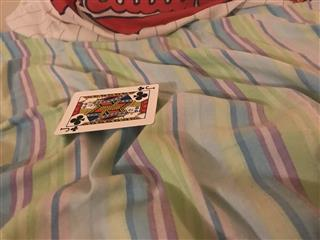JackOfClubs: (53, 83, 159, 135)
